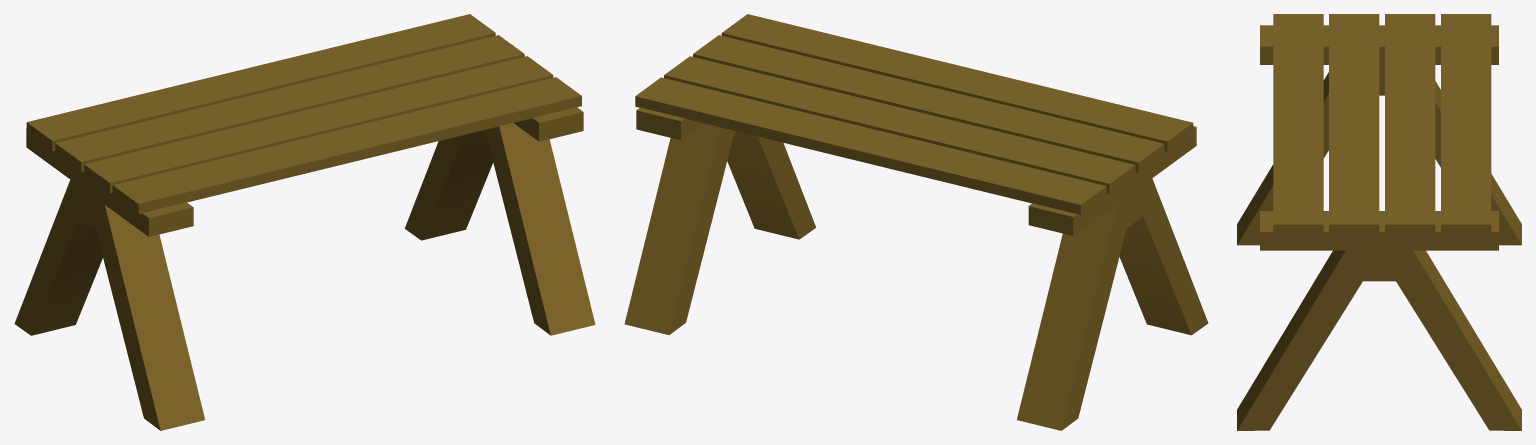
File: tisch.fbx
3 views of the same model, side by side, from view 1: azimuth 30°, elevation 25°; view 2: azimuth 150°, elevation 25°; view 3: azimuth 270°, elevation 25° (orthographic). The views are drawn at different scales.
Parts seen in each view (by area): view 1: polySurface6; view 2: polySurface6; view 3: polySurface6.
Part boxes in pixels (<box>): polySurface6: <box>14,14,595,430</box>; polySurface6: <box>624,14,1208,430</box>; polySurface6: <box>1237,14,1521,430</box>.
Size of the model in its own units: 9.94 by 4.59 by 5.68.
